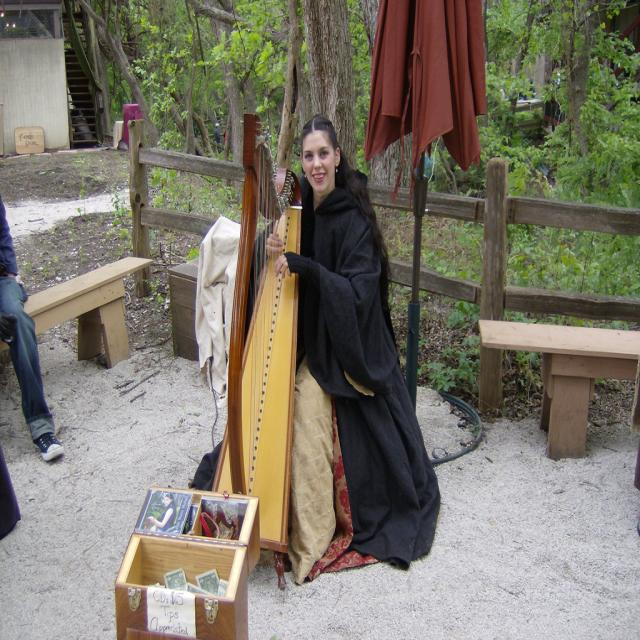harp: (202, 109, 306, 557)
